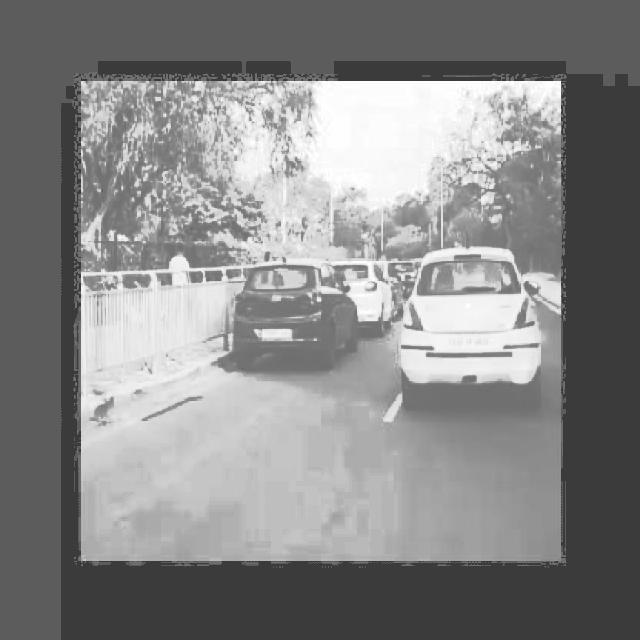Car: (402, 248, 540, 404), (237, 252, 355, 375), (349, 257, 402, 331)
